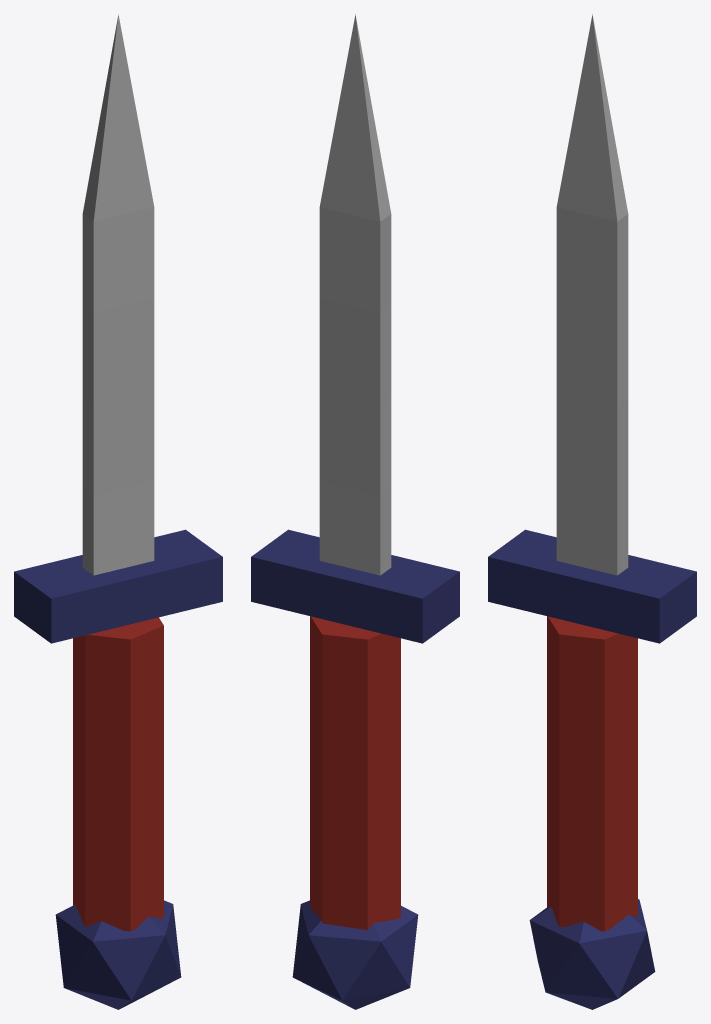
File: weapon_twin_khopesh.glb
3 views of the same model, side by side, from view 1: azimuth 30°, elevation 25°; view 2: azimuth 150°, elevation 25°; view 3: azimuth 330°, elevation 25° (orthographic).
Parts seen in each view (by area): view 1: fennec_weapon_twin_khopesh; view 2: fennec_weapon_twin_khopesh; view 3: fennec_weapon_twin_khopesh.
Boxes of the visible parts, bbox=[...] form: fennec_weapon_twin_khopesh: bbox=[14, 14, 222, 1009]; fennec_weapon_twin_khopesh: bbox=[251, 14, 459, 1009]; fennec_weapon_twin_khopesh: bbox=[488, 14, 696, 1009].
Size of the model in its own units: 0.096 by 0.5322 by 0.0582.
